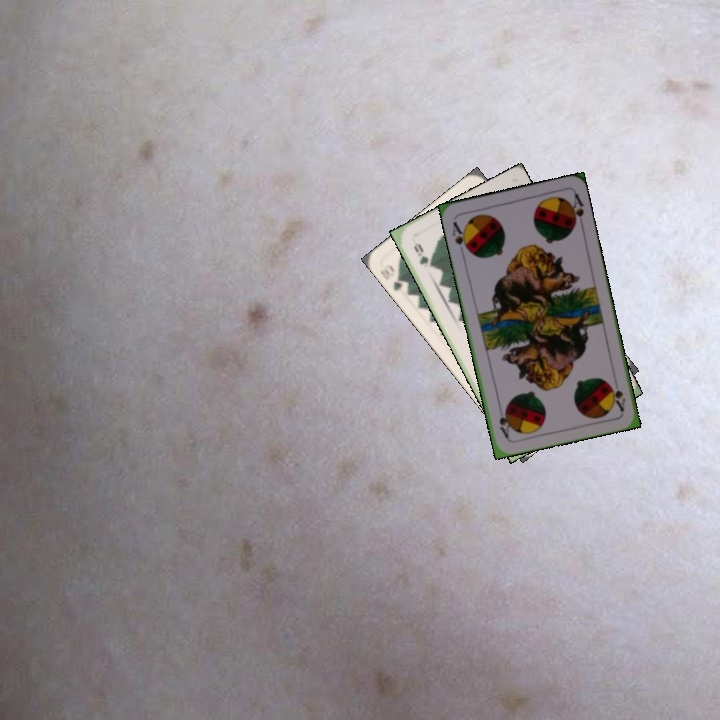G10: (376, 260, 411, 294)
G9: (410, 239, 433, 270)
SA: (448, 217, 472, 255), (606, 380, 628, 414)
